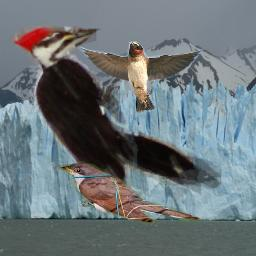Cuckoo: (57, 159, 202, 229)
Swallow: (75, 41, 204, 113)
Woodpecker: (9, 26, 221, 210)
